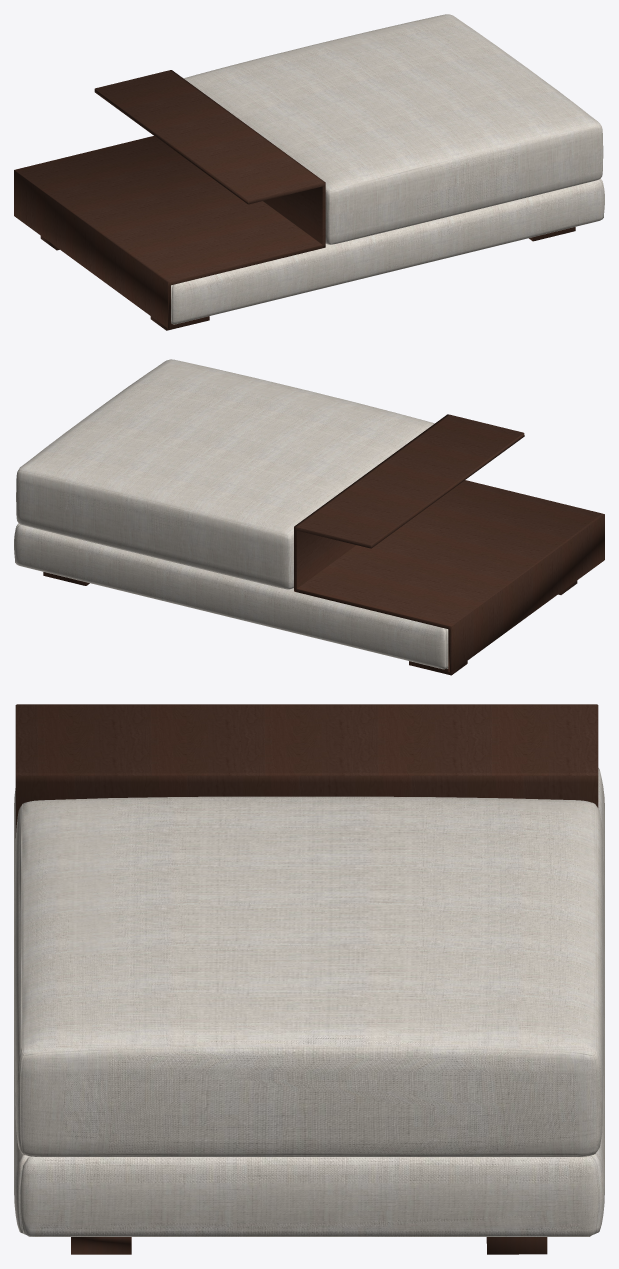
File: sofa-chaise-mesa.glb
3 views of the same model, one above another, from view 1: azimuth 30°, elevation 25°; view 2: azimuth 150°, elevation 25°; view 3: azimuth 270°, elevation 25° (orthographic). The views are drawn at different scales.
Visible parts, largest first — view 1: Chaise Mesa; view 2: Chaise Mesa; view 3: Chaise Mesa.
Boxes of the visible parts, <box> form: Chaise Mesa: <box>14,14,604,330</box>; Chaise Mesa: <box>14,359,604,675</box>; Chaise Mesa: <box>14,704,604,1254</box>.
Bounding box in the file's own units: 1.65 × 0.4509 × 1.01.
2 materials, 2 textured.
